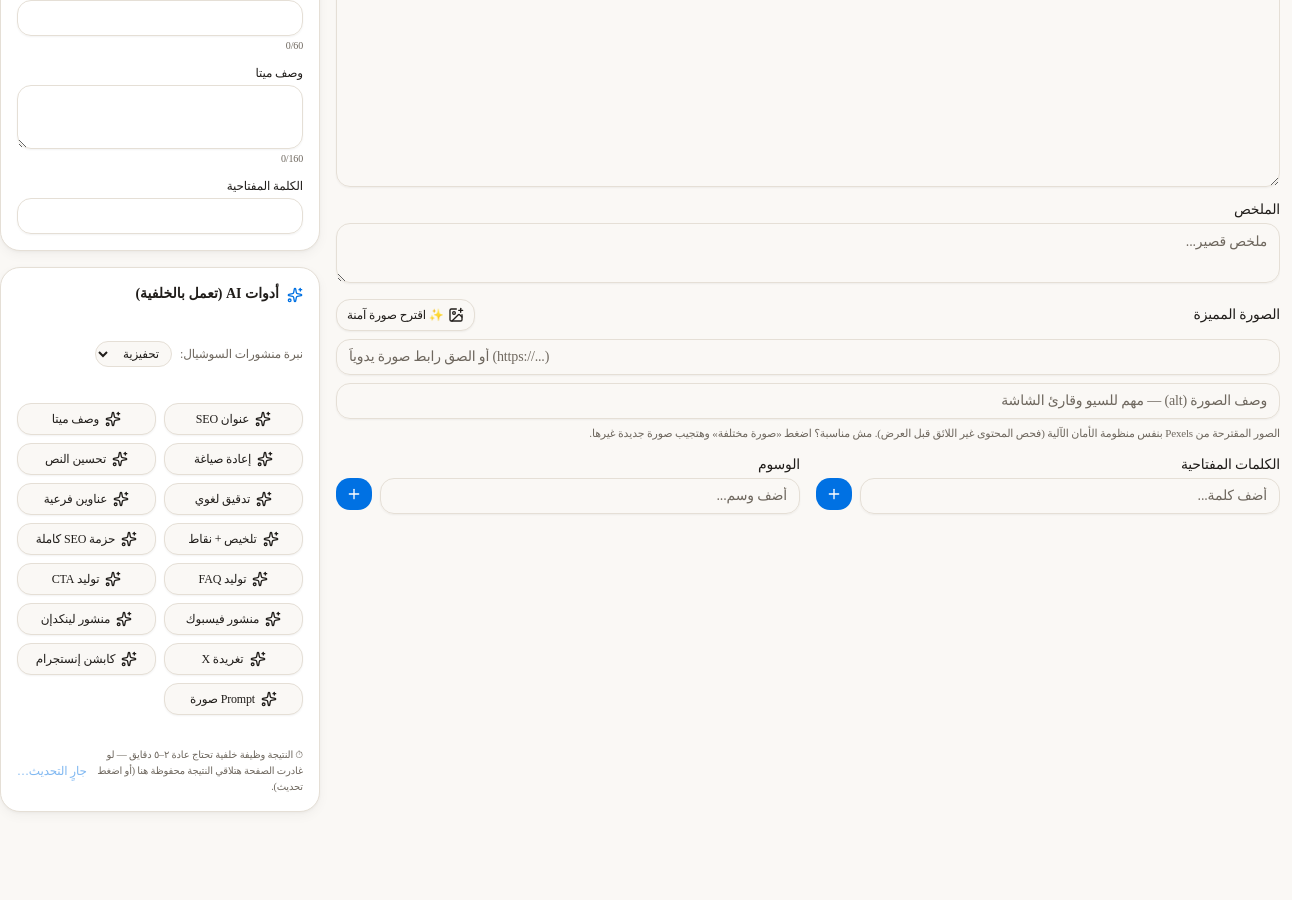
Test: W1-3e behavior — the real editor in jsdom (keyboard user flow) › Arabic: all four control names are localized (saved preference)
(page scrolled)
Expected: the button named "أضف كلمة مفتاحية" is shown, x1=816 y1=478 x2=852 y2=510
Expected: the button named "أضف وسمًا" is shown, x1=336 y1=478 x2=372 y2=510
In the field with placeholder "أضف كلمة...": (1070, 496) x1=860 y1=478 x2=1280 y2=514, type "بروتين"
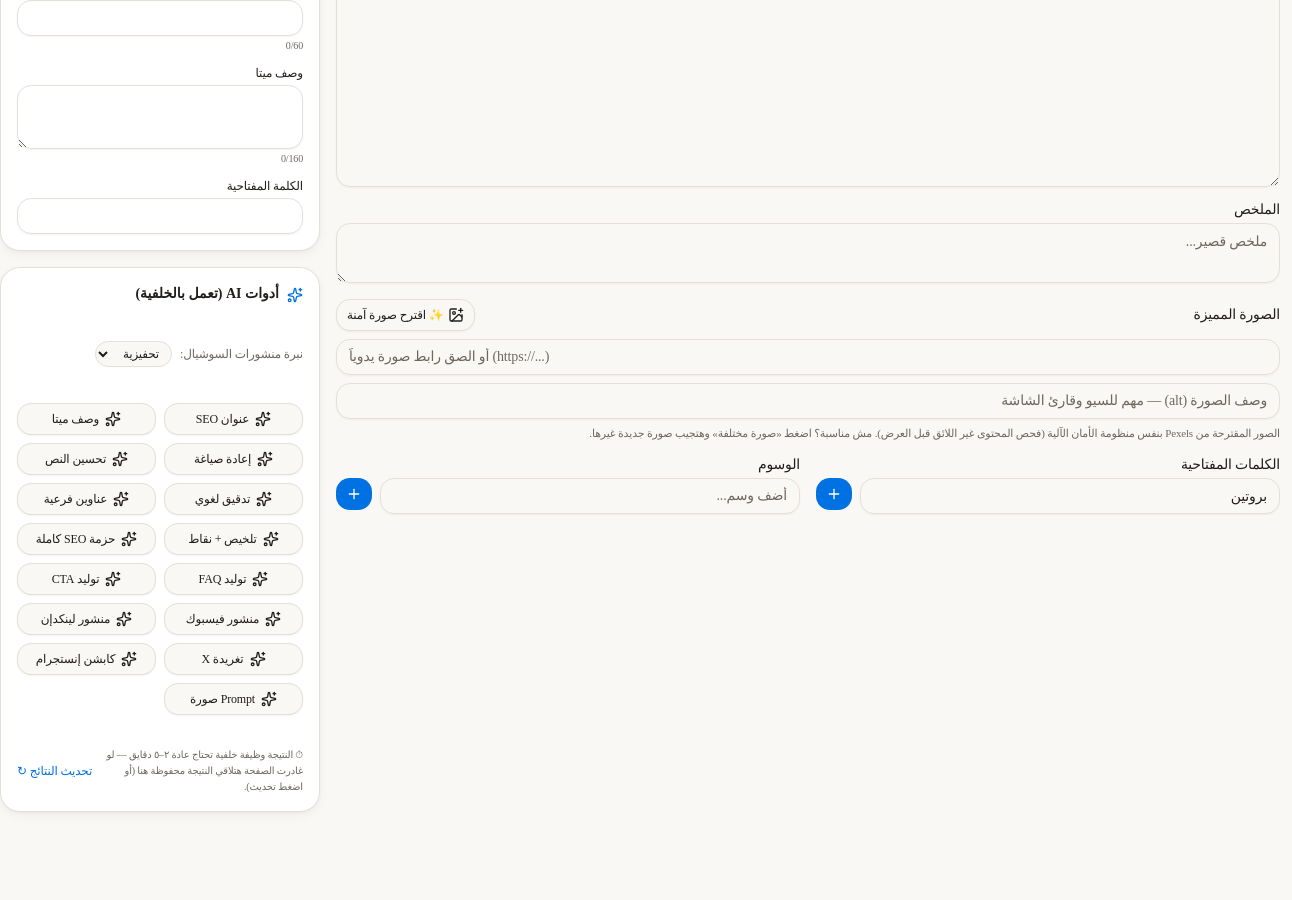
Click the button named "أضف كلمة مفتاحية": (834, 494) x1=816 y1=478 x2=852 y2=510
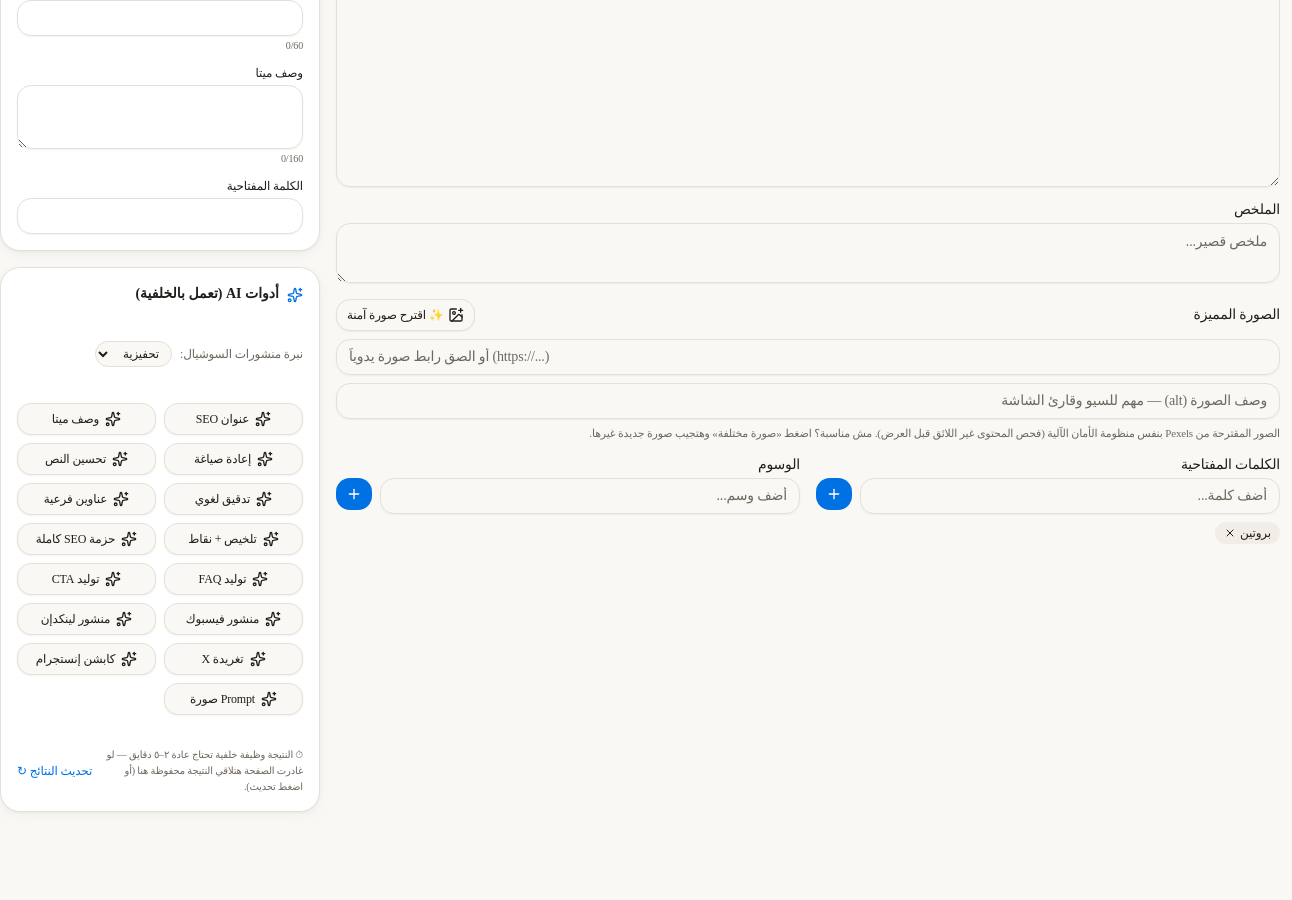
Expected: the button with aria-label "إزالة الكلمة المفتاحية «بروتين»" is shown, x1=1215 y1=522 x2=1280 y2=544
In the field with placeholder "أضف وسم...": (590, 496) x1=380 y1=478 x2=800 y2=514, type "تغذية"
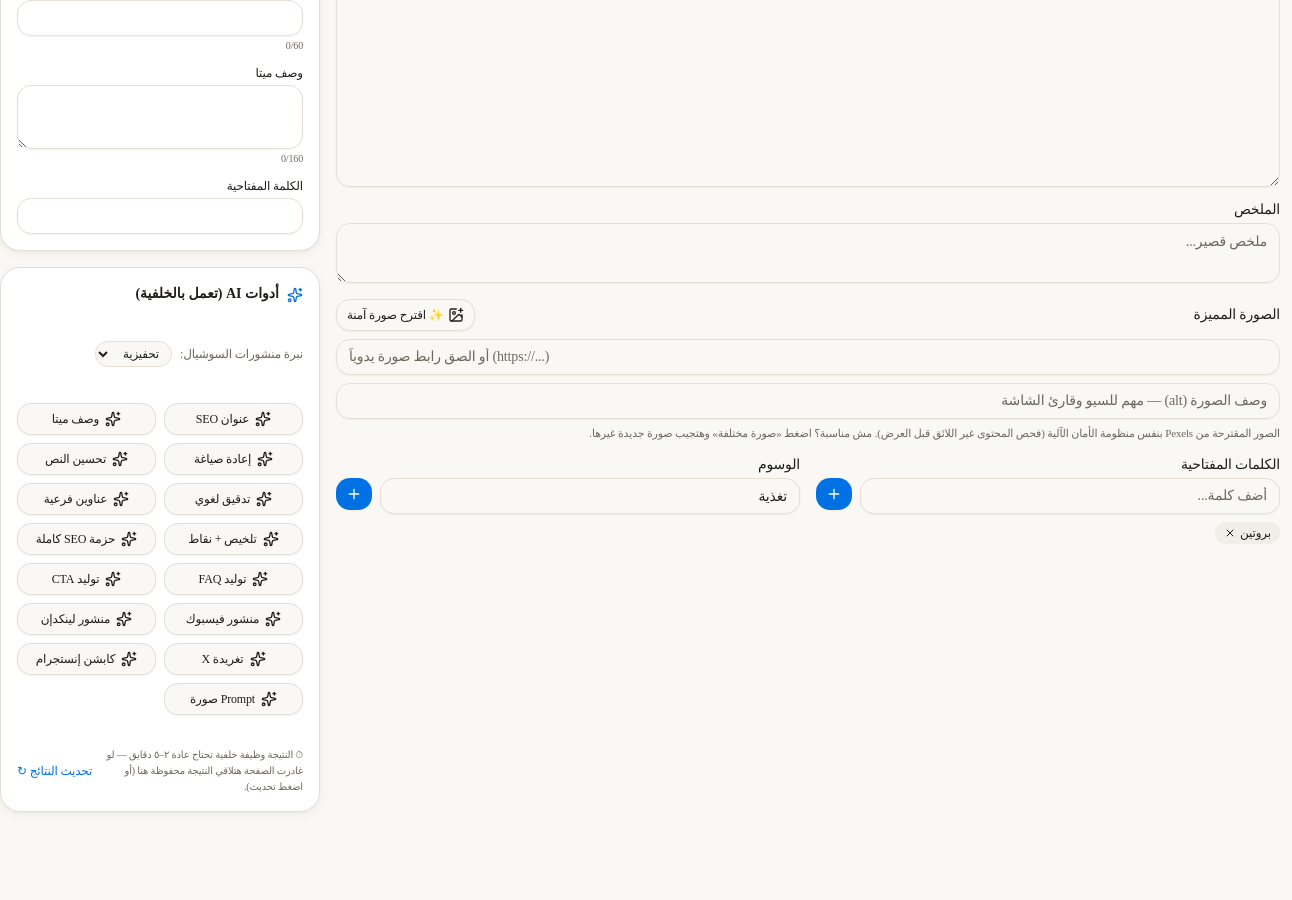
Click the button named "أضف وسمًا": (354, 494) x1=336 y1=478 x2=372 y2=510
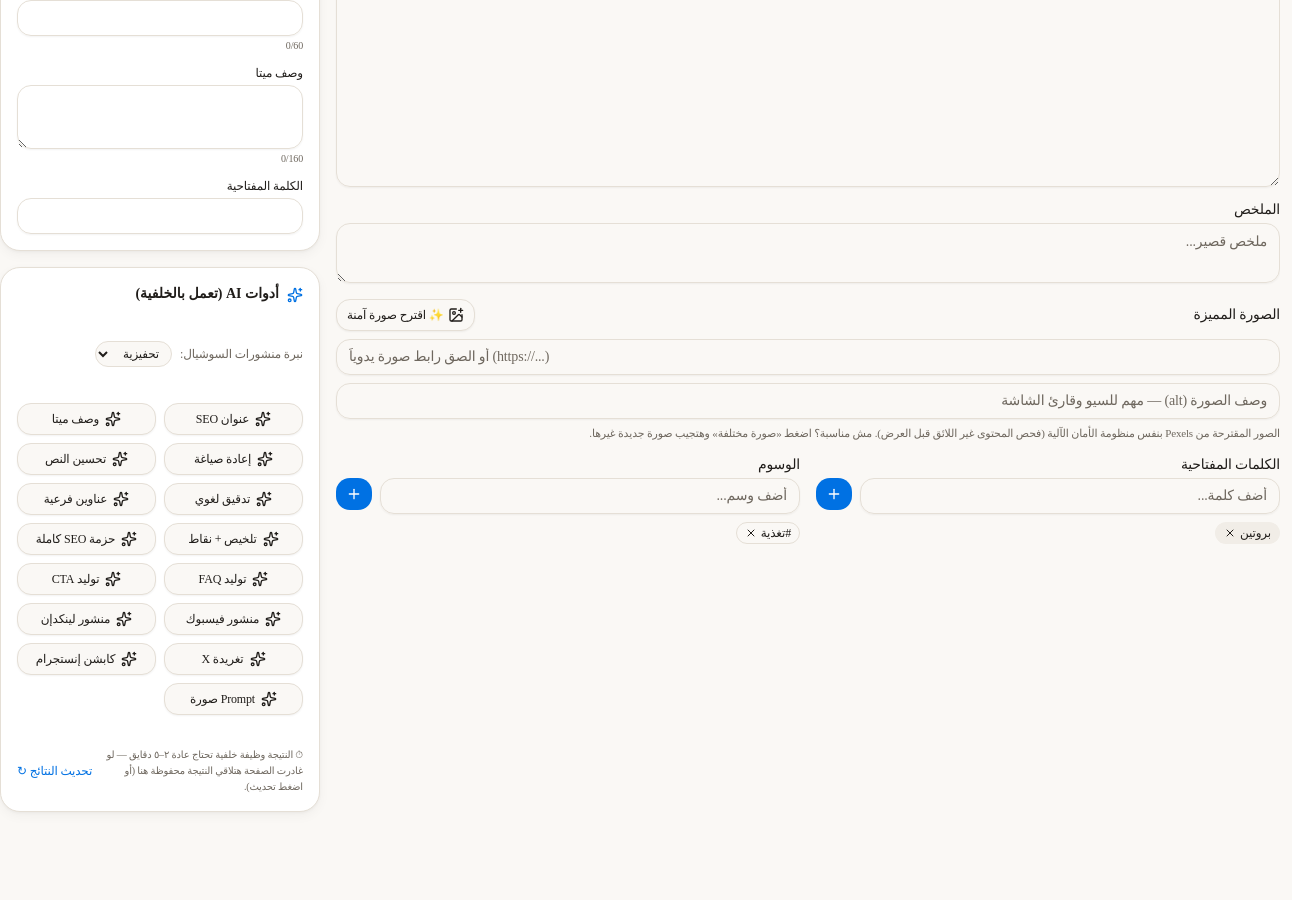
Expected: the button with aria-label "إزالة الوسم «تغذية»" is shown, x1=736 y1=522 x2=800 y2=544
